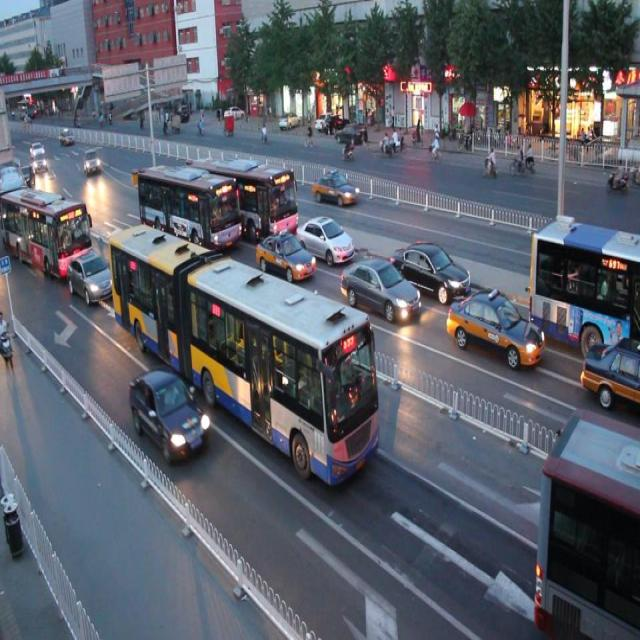car: (446, 285, 544, 374), (128, 365, 209, 463), (340, 257, 420, 325), (391, 237, 470, 303), (578, 334, 640, 408), (255, 228, 318, 286), (294, 215, 354, 263), (68, 251, 116, 310), (311, 168, 358, 211)
van: (109, 224, 380, 486), (535, 417, 640, 640), (526, 217, 640, 354), (195, 156, 298, 246), (139, 162, 241, 249), (1, 186, 92, 283)
